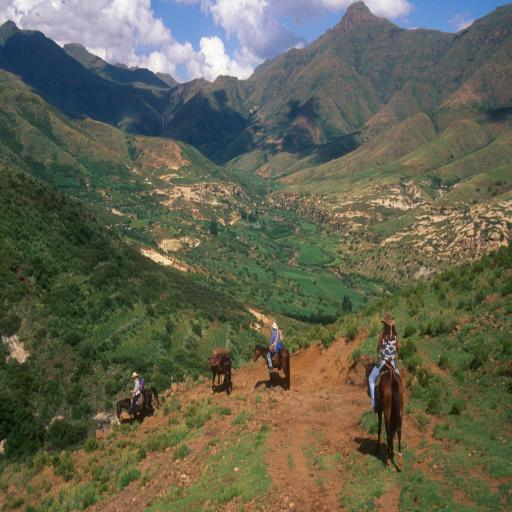horse: (362, 358, 406, 468), (116, 383, 160, 422), (253, 343, 291, 388), (208, 347, 232, 392)
